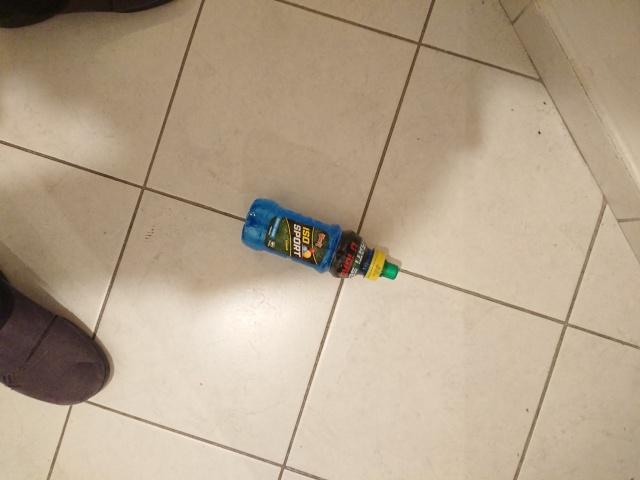Vindi Iso Sport Forest Strawberries 500mL: (240, 197, 400, 281)
